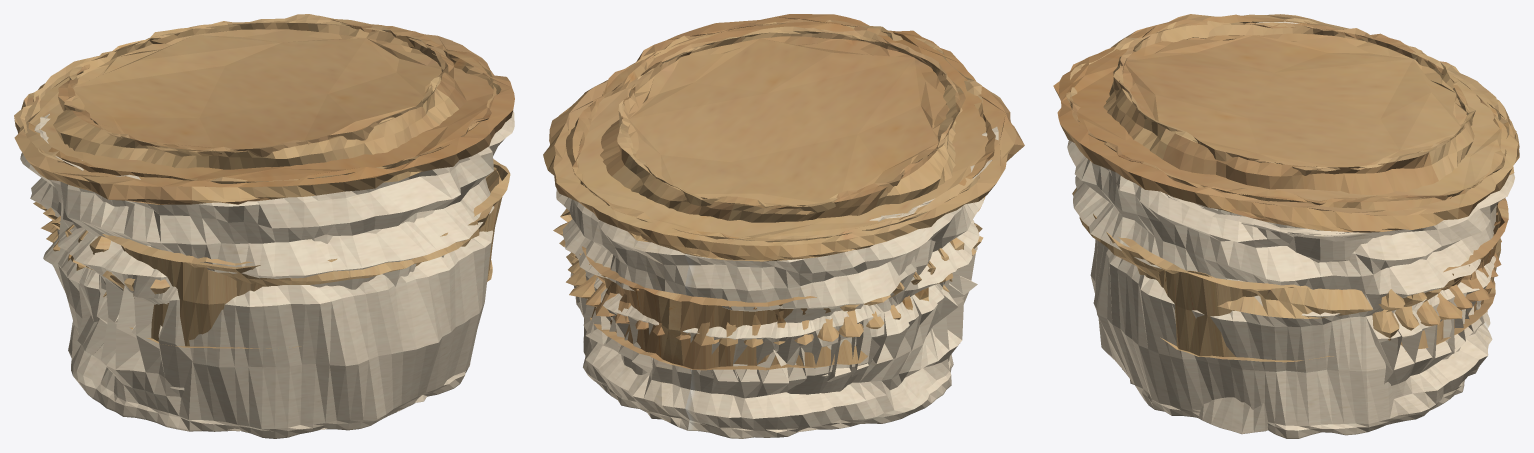
Rendered from crush_high_0.obj.
3 renders of one model, left to right at view 1: azimuth 30°, elevation 25°; view 2: azimuth 150°, elevation 25°; view 3: azimuth 270°, elevation 25°, orthographic. The views are drawn at different scales.
Visible parts, largest first — view 1: model; view 2: model; view 3: model.
Boxes of the visible parts, x1,y1,x2,y2 form: model: (14,14,514,438); model: (543,14,1024,438); model: (1053,14,1519,438).
Size of the model in its own units: 0.0706 by 0.0451 by 0.0677.
1 material, 1 textured.
